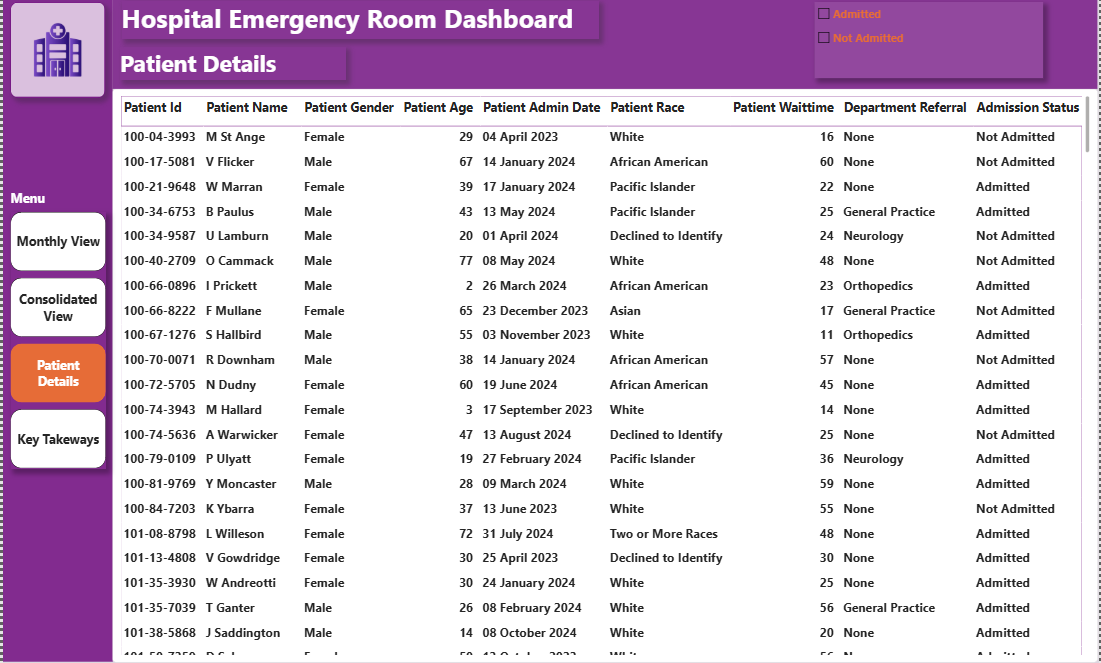

Layout of this report page (visuals, bound fields, positions):
{"tool":"powerbi","page":{"name":"Patient Details","canvas":[2300,1400],"ordinal":2},"visuals":[{"type":"shape","box":[230,0,2067.5,195],"z":0},{"type":"shape","box":[0,0,230,1397.5],"z":1000},{"type":"textbox","box":[247.5,10,1001.1,81.1],"z":2000},{"type":"textbox","box":[246.7,106.7,473.3,70],"z":3000},{"type":"image","box":[15,12.5,198.5,201.3],"z":4000},{"type":"slicer","fields":{"Values":["Hospital ER_Data.Admission Status"]},"box":[1703.3,13.3,480,160],"z":5000},{"type":"tableEx","fields":{"Values":["Hospital ER_Data.Patient Id","Hospital ER_Data.Patient Full Name","Hospital ER_Data.Patient Gender","Sum(Hospital ER_Data.Patient Age)","Hospital ER_Data.Patient Admin Date","Hospital ER_Data.Patient Race","Sum(Hospital ER_Data.Patient Waittime)","Hospital ER_Data.Department Referral","Hospital ER_Data.Admission Status"]},"box":[230,195,2068,1203],"z":6000},{"type":"pageNavigator","box":[16.7,453.3,200,540],"z":6001},{"type":"textbox","box":[16.7,406.7,133.3,43.3],"z":6002}]}

Visuals, with their boxes in screenshot pixels (x1, y1, x2, y2), scaled from the page's 2300x1400 canvas onto the 1101x663 screenshot:
shape: x1=110, y1=0, x2=1100, y2=92
shape: x1=0, y1=0, x2=110, y2=662
textbox: x1=118, y1=5, x2=598, y2=43
textbox: x1=118, y1=51, x2=345, y2=84
image: x1=7, y1=6, x2=102, y2=101
slicer - Hospital ER_Data.Admission Status: x1=815, y1=6, x2=1045, y2=82
tableEx - Hospital ER_Data.Patient Id x Hospital ER_Data.Patient Full Name: x1=110, y1=92, x2=1100, y2=662
pageNavigator: x1=8, y1=215, x2=104, y2=470
textbox: x1=8, y1=193, x2=72, y2=213
